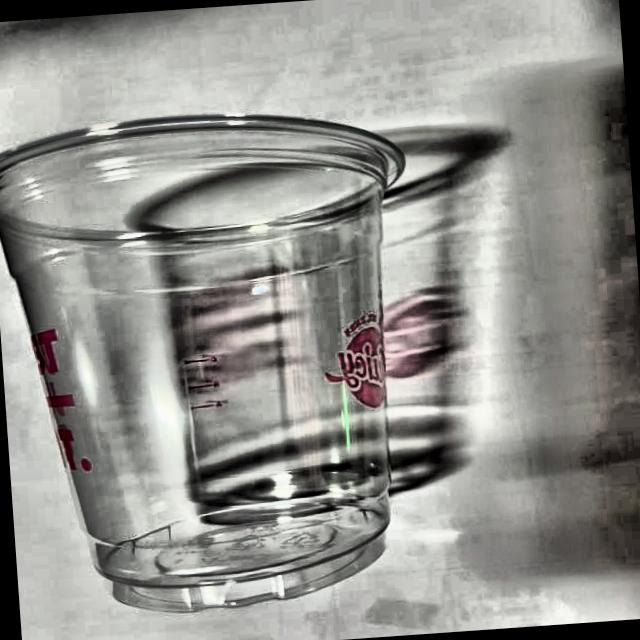plastic cup: (0, 96, 441, 625)
